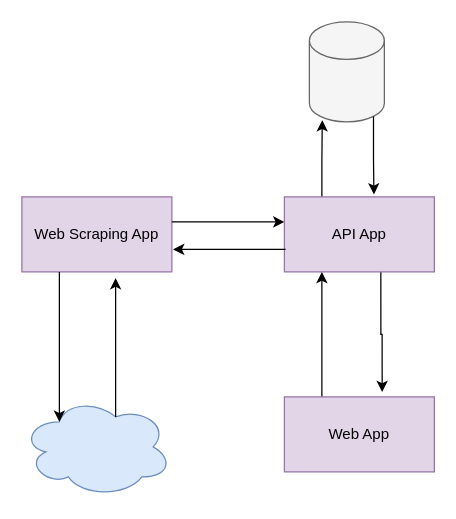
The diagram is 456 pixels wide and 519 high, and some of its shapes have lost their labels. The shapes that lost their labels are listed below. From the top down, each one's centre as x and y in pixels, then its label:
(346,71): Azure SQL DB
(96,446): IFSC Website
